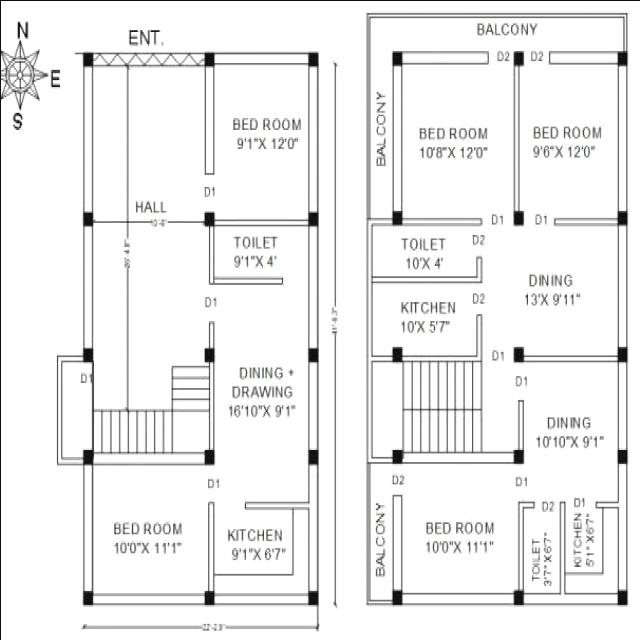Blueprint: (358, 42, 632, 618), (70, 38, 324, 616)
column: (78, 586, 95, 608), (80, 446, 96, 468), (510, 342, 526, 364), (80, 342, 94, 366), (201, 447, 217, 468), (614, 342, 628, 366), (389, 47, 404, 69), (200, 48, 216, 68), (388, 206, 404, 226), (389, 586, 404, 607), (80, 208, 94, 230), (305, 48, 319, 70), (306, 446, 320, 468), (614, 206, 628, 228), (615, 446, 629, 468), (614, 586, 628, 608), (389, 343, 404, 363), (389, 445, 404, 465), (510, 208, 526, 226), (511, 584, 524, 606), (80, 49, 94, 69), (202, 586, 216, 606), (202, 345, 216, 365), (305, 346, 319, 366), (306, 587, 320, 607), (614, 48, 628, 68), (202, 209, 216, 228), (510, 446, 524, 465), (510, 48, 524, 66), (306, 208, 318, 228)
wall: (388, 61, 404, 213), (80, 62, 94, 214), (306, 62, 320, 214), (614, 61, 628, 213), (90, 590, 206, 608), (400, 448, 516, 466), (90, 448, 205, 466), (400, 588, 515, 606), (398, 46, 490, 68), (364, 214, 372, 464), (305, 461, 320, 593), (212, 48, 309, 68), (521, 587, 618, 607), (80, 460, 94, 594), (614, 458, 628, 592), (212, 589, 310, 608), (614, 220, 628, 350), (305, 222, 319, 350), (80, 222, 94, 350), (364, 272, 485, 286), (388, 491, 404, 593), (202, 60, 215, 178), (510, 62, 520, 214), (546, 46, 620, 66), (614, 358, 628, 454), (551, 212, 619, 230), (306, 358, 319, 451), (398, 352, 483, 366), (520, 352, 619, 364), (399, 213, 483, 227), (242, 498, 320, 512), (207, 273, 284, 287), (557, 497, 566, 608), (211, 216, 309, 226), (206, 498, 216, 592), (54, 352, 62, 467), (515, 498, 524, 594), (207, 358, 216, 452), (472, 308, 483, 366), (514, 395, 524, 453), (592, 497, 628, 512), (207, 222, 215, 288), (365, 214, 393, 228), (363, 452, 393, 465), (54, 454, 84, 466), (474, 250, 484, 286), (364, 353, 394, 364), (55, 352, 85, 362), (516, 497, 536, 512), (207, 318, 214, 351)
